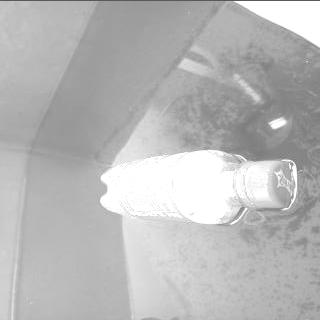bottle: (98, 147, 298, 224)
